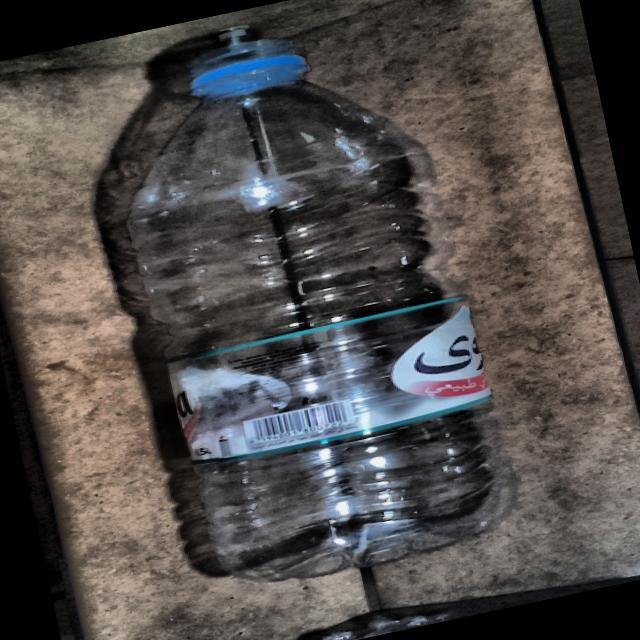plastic bottle: (128, 41, 512, 581)
